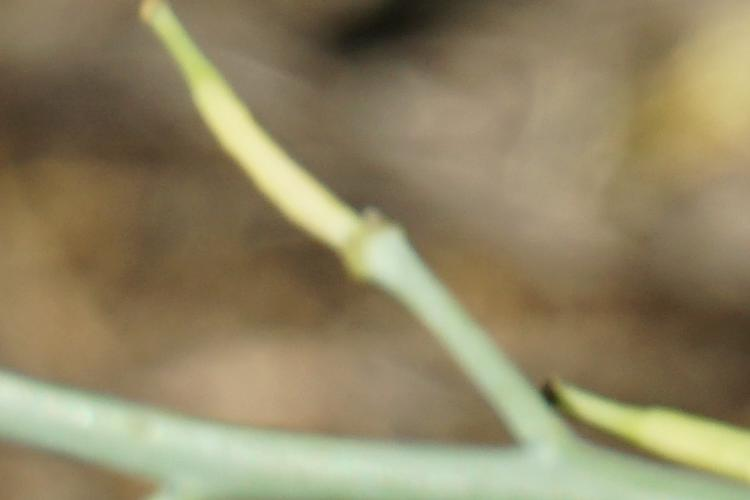pod: (128, 9, 413, 278), (536, 366, 750, 480)
